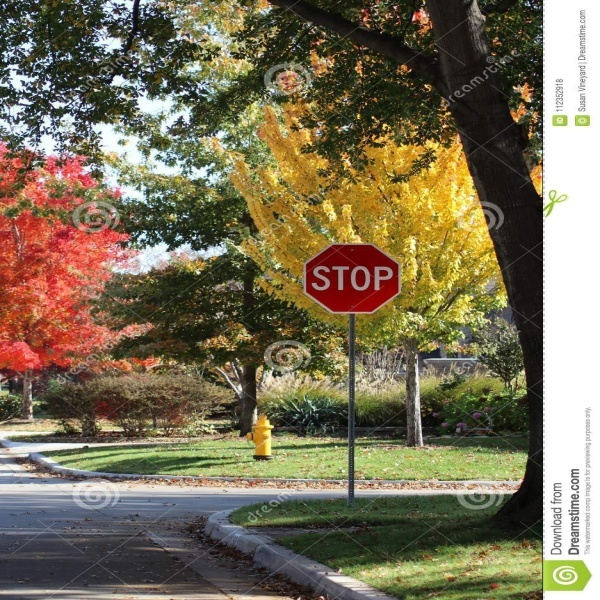stop: (248, 84, 401, 347)
